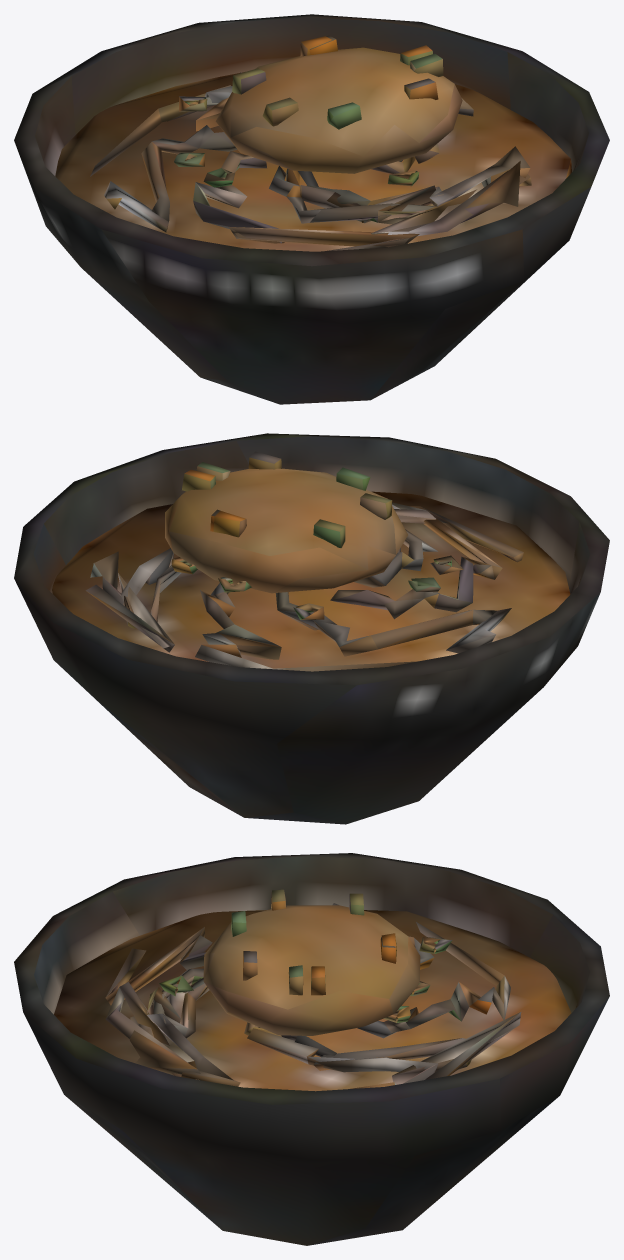
Rendered from soba.glb.
3 renders of one model, top to bottom at view 1: azimuth 30°, elevation 25°; view 2: azimuth 150°, elevation 25°; view 3: azimuth 270°, elevation 25°, orthographic.
Visible parts, largest first — view 1: prop_soba_felt; view 2: prop_soba_felt; view 3: prop_soba_felt.
Part boxes in pixels (bbox=[...]): prop_soba_felt: bbox=[14, 14, 609, 404]; prop_soba_felt: bbox=[14, 433, 609, 824]; prop_soba_felt: bbox=[14, 853, 609, 1245].
Size of the model in its own units: 0.2839 by 0.1446 by 0.2839.
Materials: 1 (1 with a texture image).
